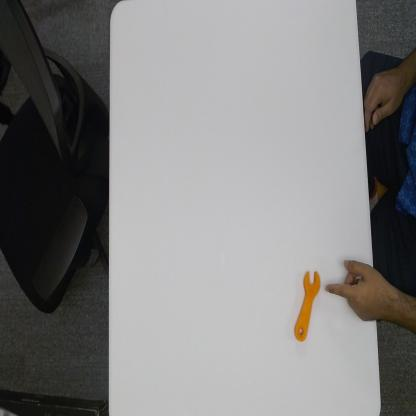Hand: (324, 254, 382, 324)
Screwdriver: (292, 263, 321, 343)
